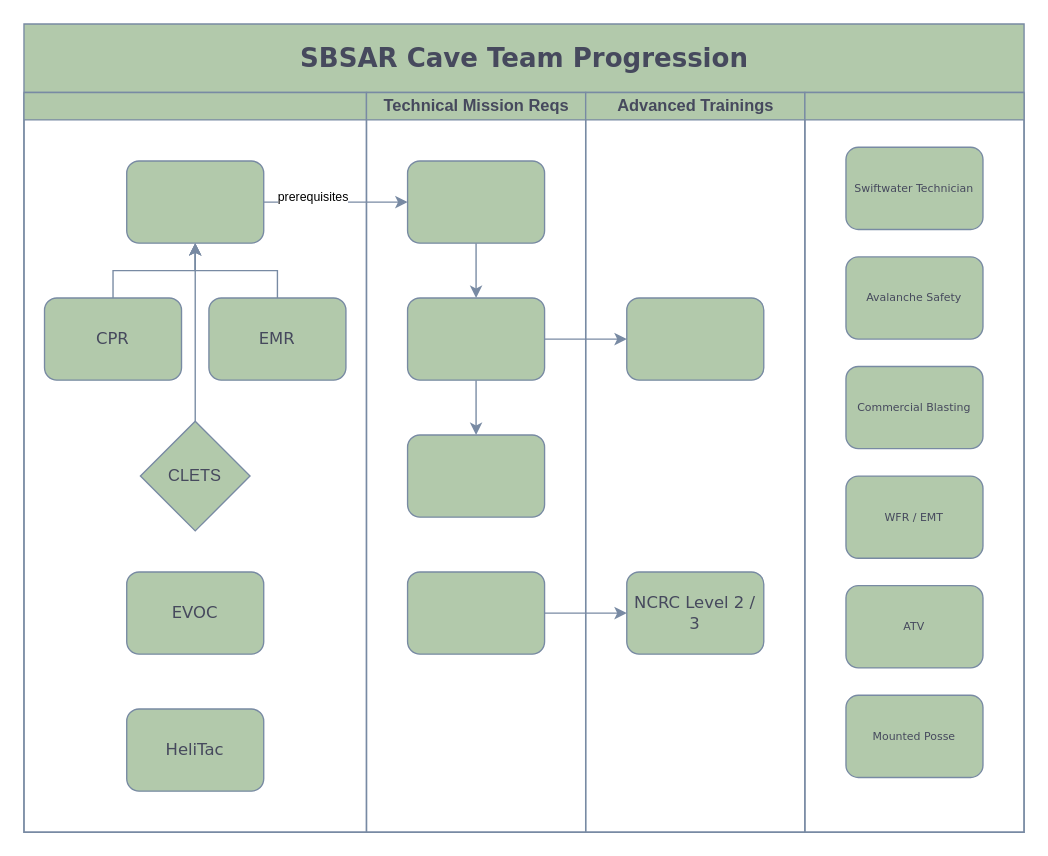
Image size: 1048x856. Some labels were removed from this diagram. The box of each missing label's shape, as (x1, y1, x2, y2) in pixels:
BMC: (406, 434, 545, 517)
BSAR: (125, 160, 264, 243)
Deployment Requirements: (23, 91, 366, 832)
NCRC Level 1: (406, 571, 545, 654)
Other Trainings: (804, 91, 1024, 832)
RRO: (406, 297, 545, 380)
RRS: (406, 160, 545, 243)
RRT: (625, 297, 764, 380)
